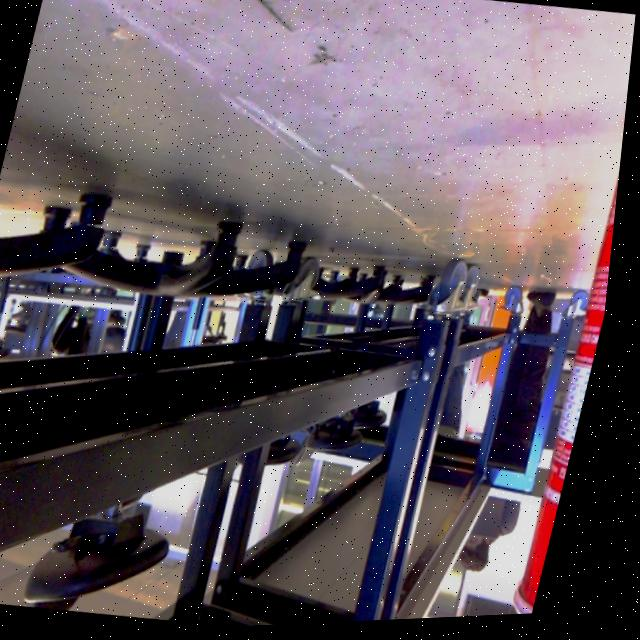redpringles: (502, 49, 634, 621)
